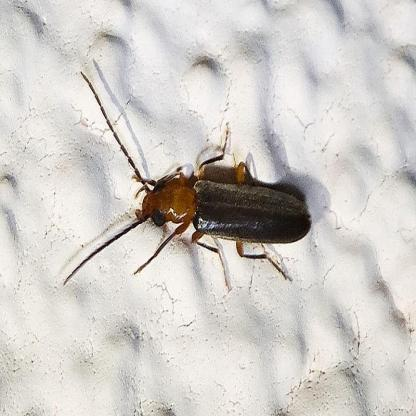beetle: (79, 63, 312, 300)
